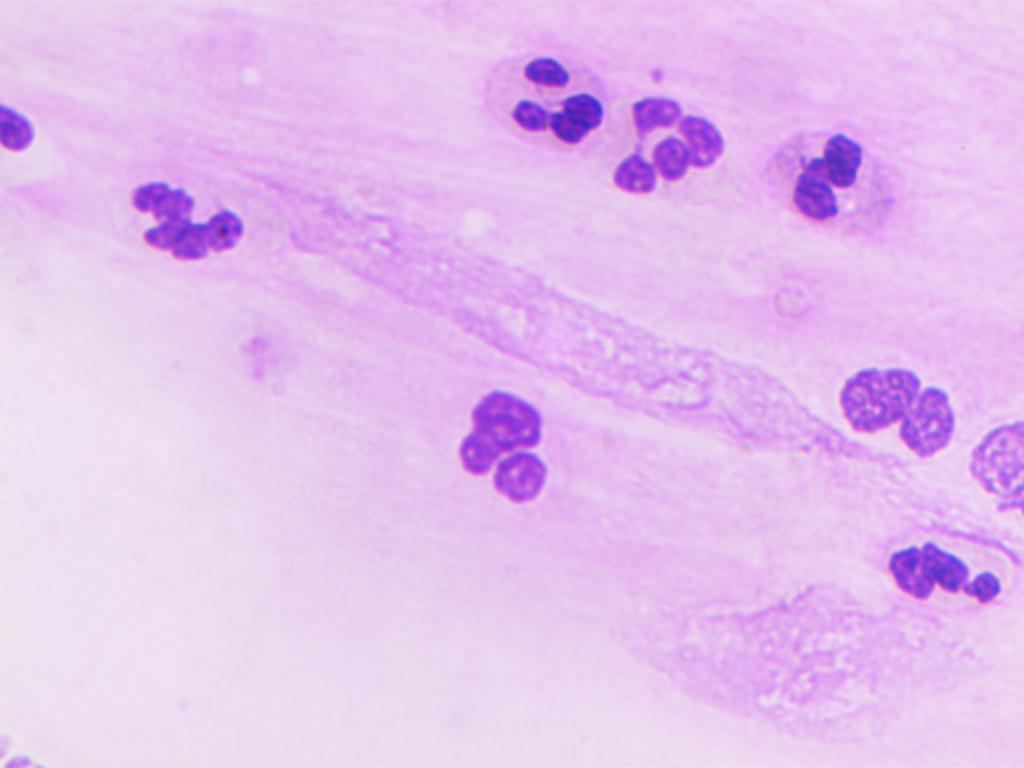neutrophil: (765, 124, 910, 261), (833, 337, 965, 473), (479, 35, 613, 155), (597, 89, 728, 208), (451, 378, 563, 515), (851, 527, 1007, 616), (119, 167, 249, 273), (970, 402, 1024, 526), (0, 81, 68, 168)
